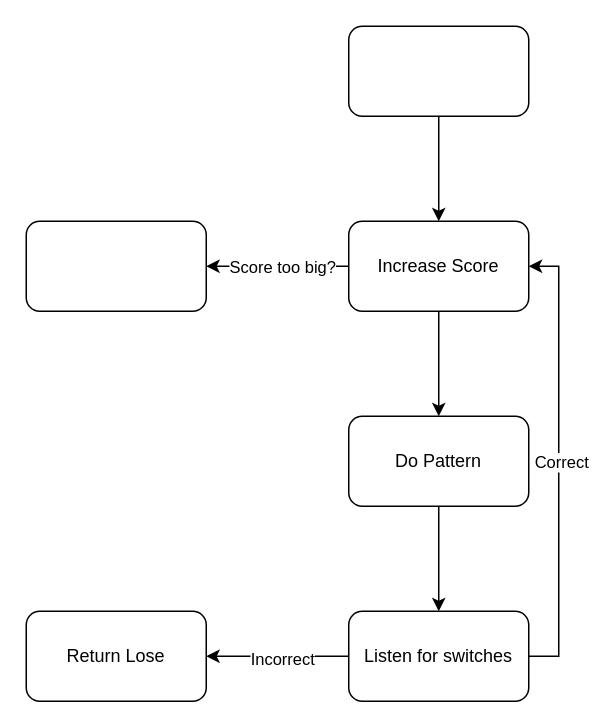
Image size: 614x728. Some labels were removed from this diagram. The shapes that lost their labels are listed below. From the top down, each one's centre as x and y in pixels, then its label:
point (438, 70): Game Init
point (115, 265): Return Win
